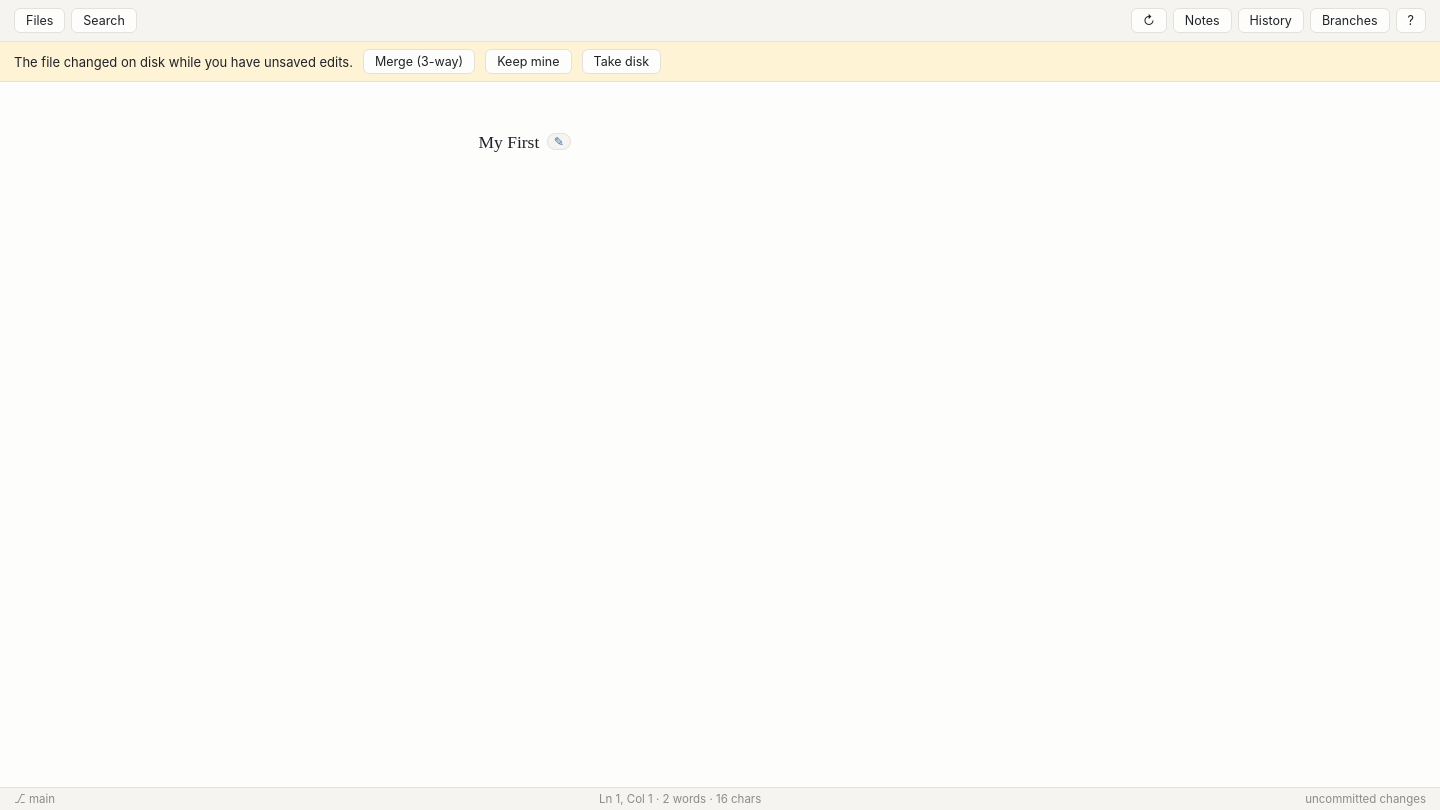
Test: handles a disk conflict through merge and leaves the merged text pending a save
Expected: the element with class "warning" shows "changed on disk", x1=14 y1=54 x2=353 y2=70
Click the button "Merge (3-way)": click(419, 62) x1=363 y1=49 x2=475 y2=74
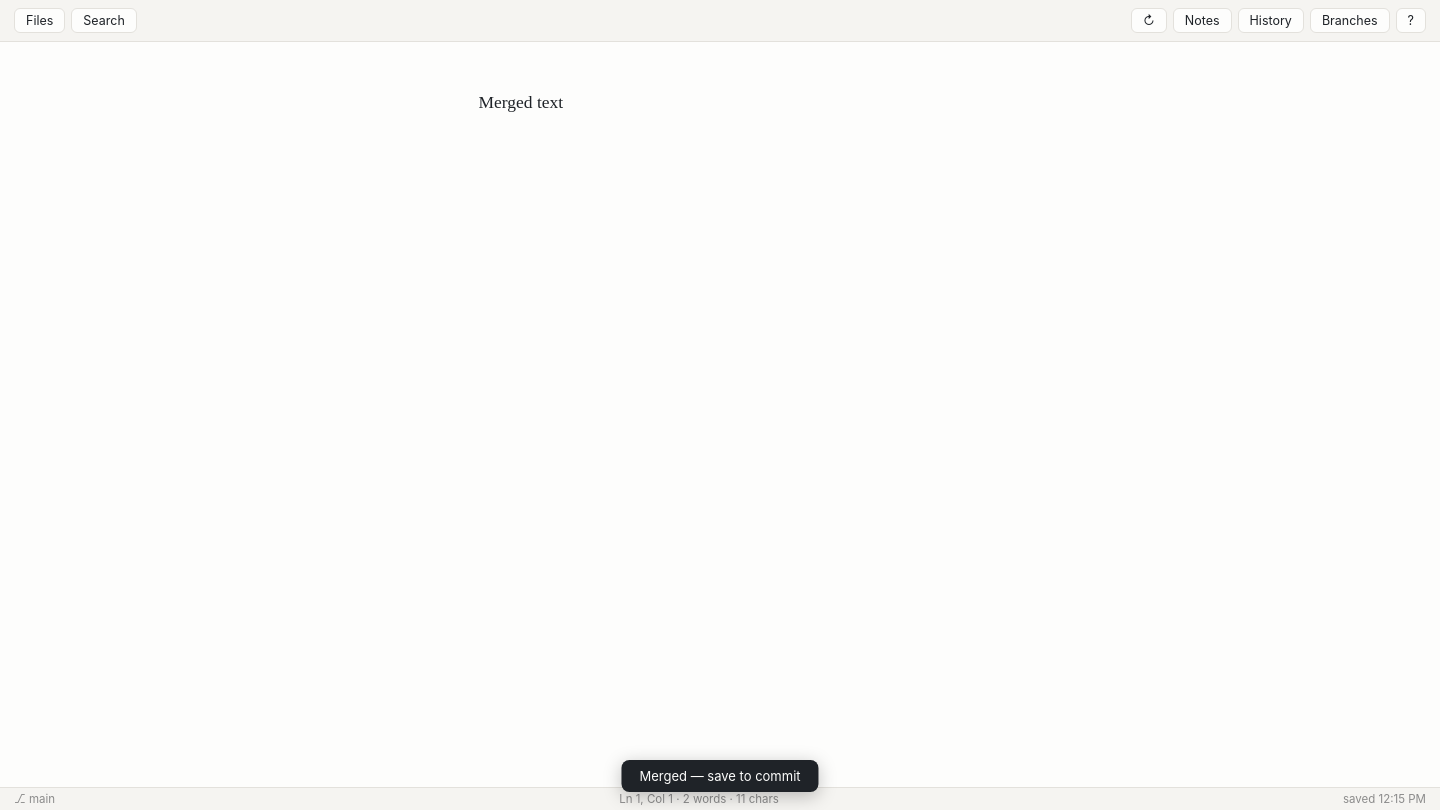
Expected: the text box labelled "Merged text" is shown, x1=478 y1=92 x2=563 y2=112
Expected: the element with class "warning" is gone
